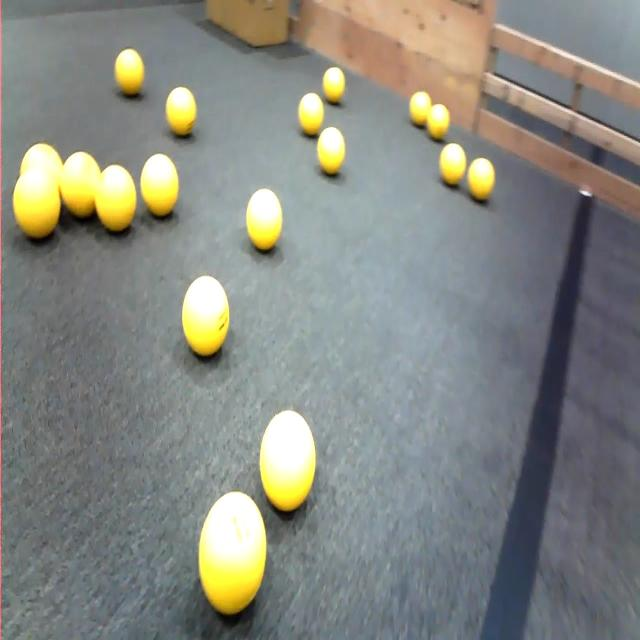fuel: (199, 492, 266, 615), (260, 410, 315, 511), (182, 276, 229, 357), (13, 168, 60, 239), (95, 165, 136, 232), (60, 152, 100, 218), (140, 153, 178, 216), (246, 189, 282, 251), (20, 143, 62, 184), (166, 87, 196, 136), (115, 48, 145, 96), (317, 128, 345, 175), (468, 158, 495, 201), (440, 144, 466, 186), (298, 93, 323, 135), (427, 104, 450, 140), (323, 67, 345, 103), (409, 91, 431, 127)
